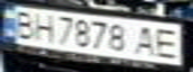7: (87, 18, 109, 52), (51, 15, 75, 46)
8: (109, 20, 133, 53), (72, 16, 93, 48)
A: (130, 24, 160, 57)
B: (6, 8, 39, 39)
E: (151, 25, 187, 60)
H: (30, 11, 57, 43)
